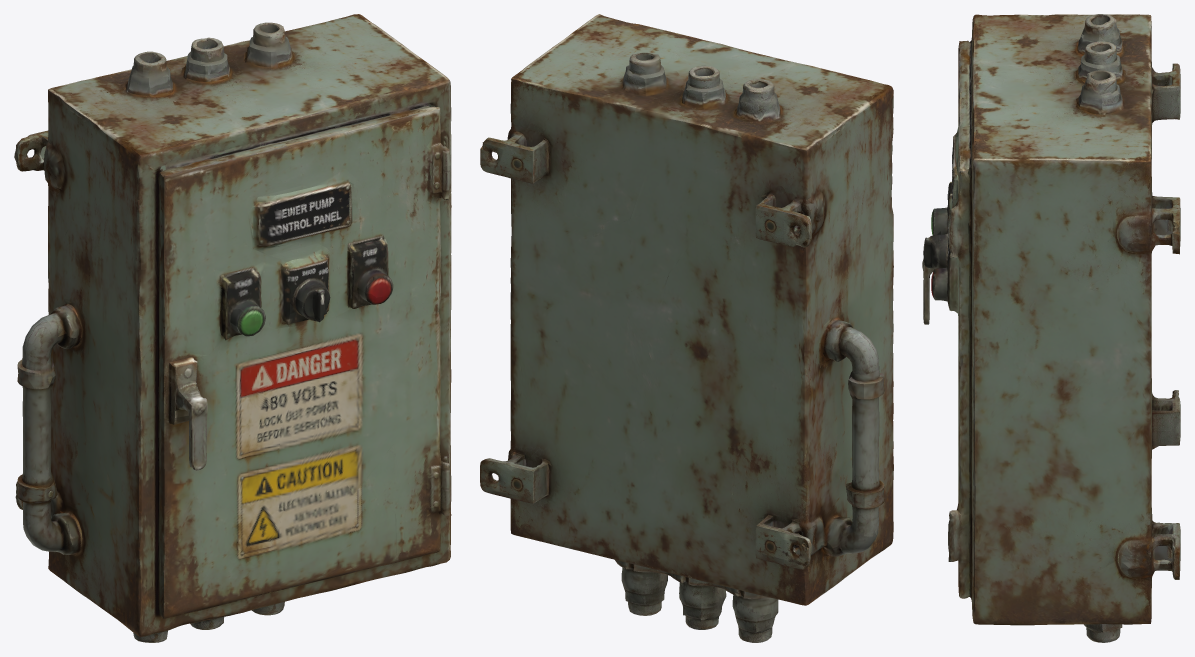
File: electric_panel.glb
3 renders of one model, left to right at view 1: azimuth 30°, elevation 25°; view 2: azimuth 150°, elevation 25°; view 3: azimuth 270°, elevation 25°, orthographic. The views are drawn at different scales.
Visible parts, largest first — view 1: output_unwrapped; view 2: output_unwrapped; view 3: output_unwrapped.
Part boxes in pixels (<box>): output_unwrapped: <box>14,14,451,642</box>; output_unwrapped: <box>480,14,893,642</box>; output_unwrapped: <box>922,14,1180,642</box>.
Bounding box in the file's own units: 1.31 × 1.91 × 0.7953.
Materials: 1 (1 with a texture image).
